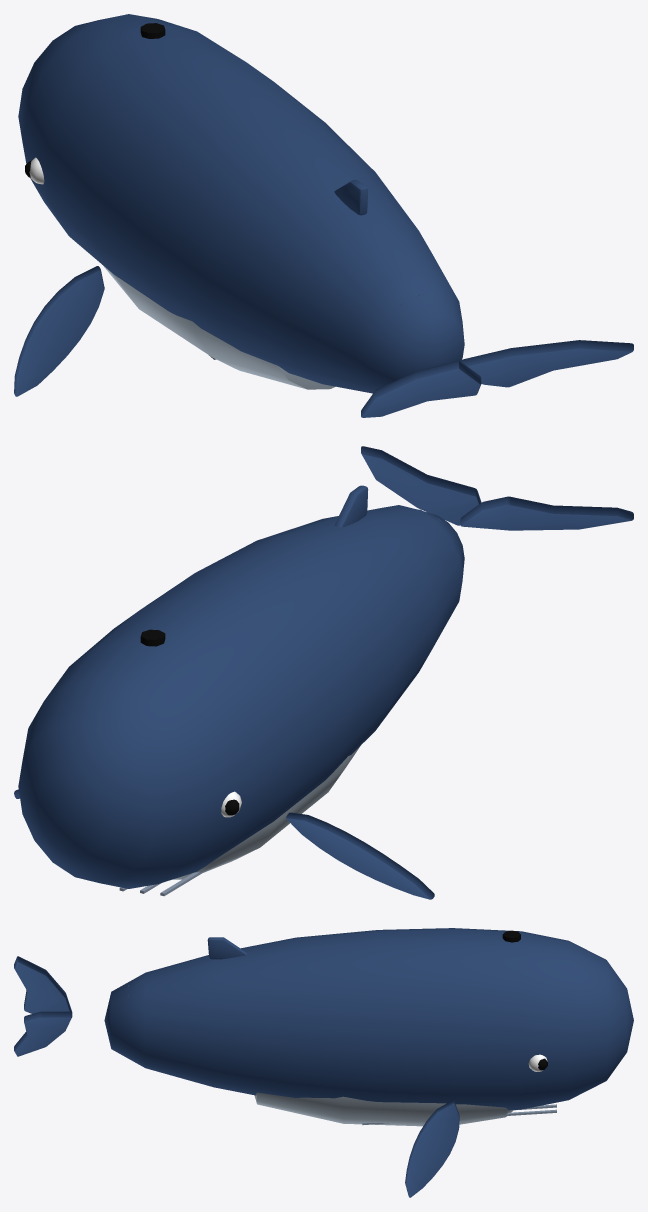
The model's file is whale.glb.
3 views of the same model, one above another, from view 1: azimuth 30°, elevation 25°; view 2: azimuth 150°, elevation 25°; view 3: azimuth 270°, elevation 25° (orthographic). The views are drawn at different scales.
Parts seen in each view (by area): view 1: BodyMesh, FlukesMesh; view 2: BodyMesh, FlukesMesh; view 3: BodyMesh, FlukesMesh.
Part boxes in pixels (bbox=[...]): BodyMesh: bbox=[14, 14, 464, 396]; FlukesMesh: bbox=[361, 340, 633, 417]; BodyMesh: bbox=[14, 485, 464, 899]; FlukesMesh: bbox=[361, 446, 633, 530]; BodyMesh: bbox=[104, 928, 633, 1197]; FlukesMesh: bbox=[14, 956, 72, 1056].
Size of the model in its own units: 5.35 by 3.24 by 9.53.
